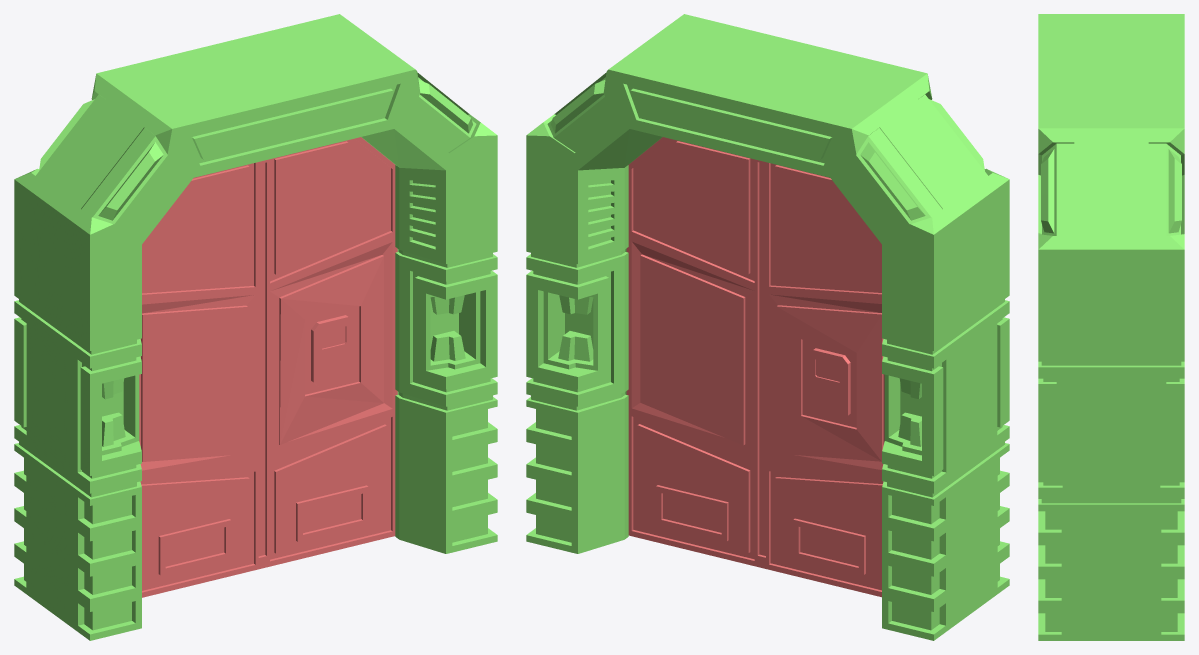
File: Puerta_Fianl.fbx
The picture shows the model from 3 angles, left to right: view 1: azimuth 30°, elevation 25°; view 2: azimuth 150°, elevation 25°; view 3: azimuth 270°, elevation 25°; orthographic projection. The views are drawn at different scales.
Visible parts, largest first — view 1: Puerta; view 2: Puerta; view 3: Puerta.
Boxes of the visible parts, <box> form: Puerta: <box>14,14,497,640</box>; Puerta: <box>526,14,1009,640</box>; Puerta: <box>1038,14,1184,640</box>.
Bounding box in the file's own units: 226 × 260 × 72.76.
